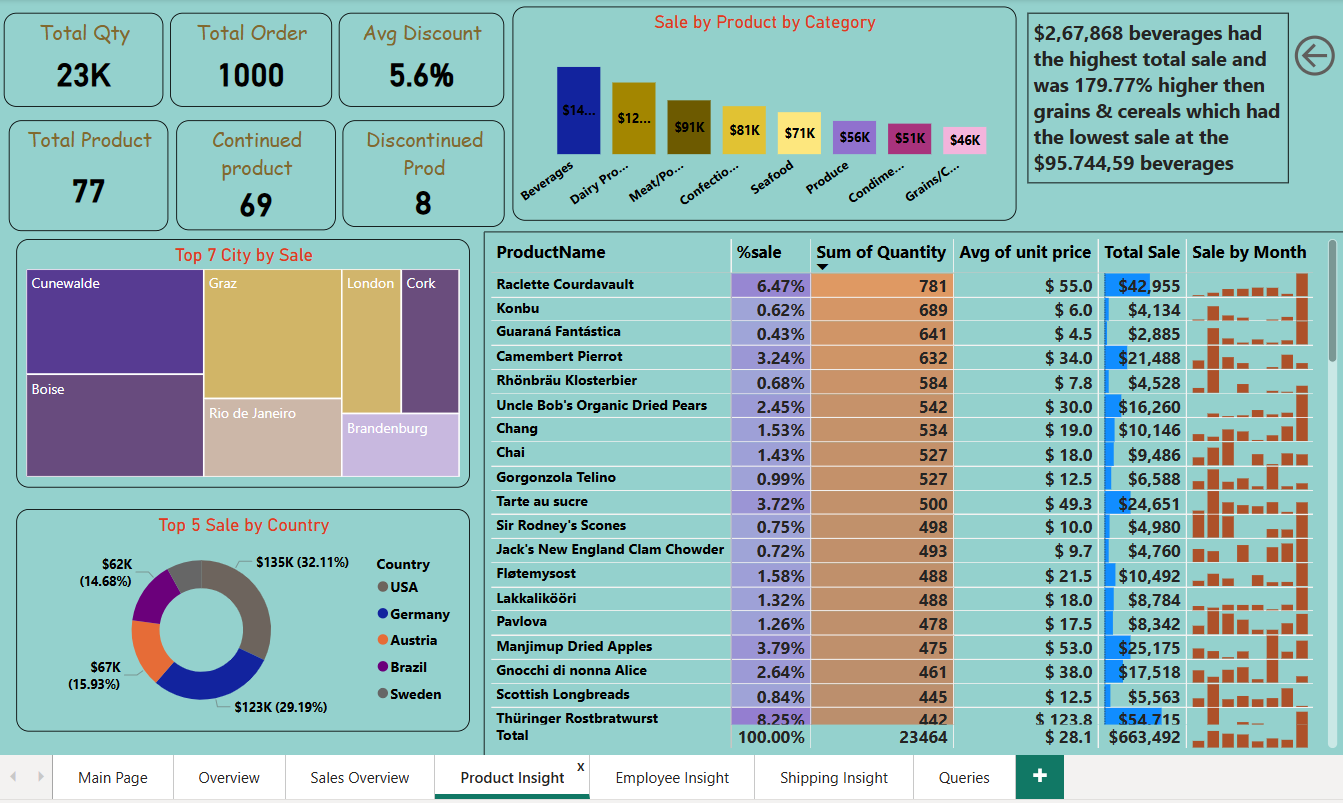

The page's visual inventory and layout, read from the dashboard file:
{"tool":"powerbi","page":{"name":"Product Insight","canvas":[1280,720],"ordinal":3},"visuals":[{"type":"card","title":"Total Qty","fields":{"Values":["Sum(power_bi orders.Quantity)"]},"box":[3.3,13.3,152.4,89.4],"z":0},{"type":"card","title":"Total Order","fields":{"Values":["power_bi orders.Total Orders"]},"box":[162.3,13.3,154.1,89.4],"z":1000},{"type":"card","title":"Avg Discount","fields":{"Values":["power_bi orders.Avg of Discount"]},"box":[323,13.3,157.4,89.4],"z":2000},{"type":"card","title":"Total Product","fields":{"Values":["power_bi products.Total Product"]},"box":[8.3,115.5,152.4,105.7],"z":3000},{"type":"columnChart","title":"Sale by Product by Category","fields":{"Category":["power_bi categories.CategoryName"],"Y":["Sum(power_bi orders.Total_Amount)"]},"box":[488.1,7.1,479.8,204],"z":4000},{"type":"pivotTable","fields":{"Rows":["power_bi products.ProductName"],"Values":["power_bi orders.%sale","Sum(power_bi orders.Quantity)","power_bi orders.Avg of unit price","Sum(power_bi orders.Total_Amount)","SparklineData(Sum(power_bi orders.Total_Amount)_[power_bi calendar.Month Name])"]},"box":[460.7,221.2,820.2,499.1],"z":5000},{"type":"donutChart","title":"Top 5 Sale by Country","fields":{"Category":["power_bi customers.Country"],"Y":["Sum(power_bi orders.Total_Amount)"]},"box":[14.9,485.3,432.3,212],"z":6000},{"type":"treemap","title":"Top 7 City by Sale","fields":{"Group":["power_bi customers.City"],"Values":["Sum(power_bi orders.Total_Amount)"]},"box":[14.9,228.6,432.3,236.9],"z":7000},{"type":"card","title":"Discontinued Prod","fields":{"Values":["power_bi products.Count Product"]},"box":[326.2,115.5,154.8,101.9],"z":8000},{"type":"card","title":"Continued product","fields":{"Values":["power_bi products.Continued"]},"box":[167.9,115.5,152.4,104.8],"z":9000},{"type":"textbox","box":[979,13.3,248.5,162.3],"z":10000},{"type":"actionButton","box":[1227.5,13.3,49.7,81.2],"z":11000}]}

Visuals, with their boxes on the page's 1280x720 design canvas (x1, y1, x2, y2). These are canvas units, not pixel positions in the 1343x803 screenshot, which may show the page scaled, cropped or inside an application window:
"Total Qty" card: pyautogui.locateOnScreen(3, 13, 156, 103)
"Total Order" card: pyautogui.locateOnScreen(162, 13, 316, 103)
"Avg Discount" card: pyautogui.locateOnScreen(323, 13, 480, 103)
"Total Product" card: pyautogui.locateOnScreen(8, 116, 161, 221)
"Sale by Product by Category" columnChart: pyautogui.locateOnScreen(488, 7, 968, 211)
pivotTable - power_bi products.ProductName x power_bi orders.%sale: pyautogui.locateOnScreen(461, 221, 1281, 720)
"Top 5 Sale by Country" donutChart: pyautogui.locateOnScreen(15, 485, 447, 697)
"Top 7 City by Sale" treemap: pyautogui.locateOnScreen(15, 229, 447, 466)
"Discontinued Prod" card: pyautogui.locateOnScreen(326, 116, 481, 217)
"Continued product" card: pyautogui.locateOnScreen(168, 116, 320, 220)
textbox: pyautogui.locateOnScreen(979, 13, 1228, 176)
actionButton: pyautogui.locateOnScreen(1228, 13, 1277, 94)
